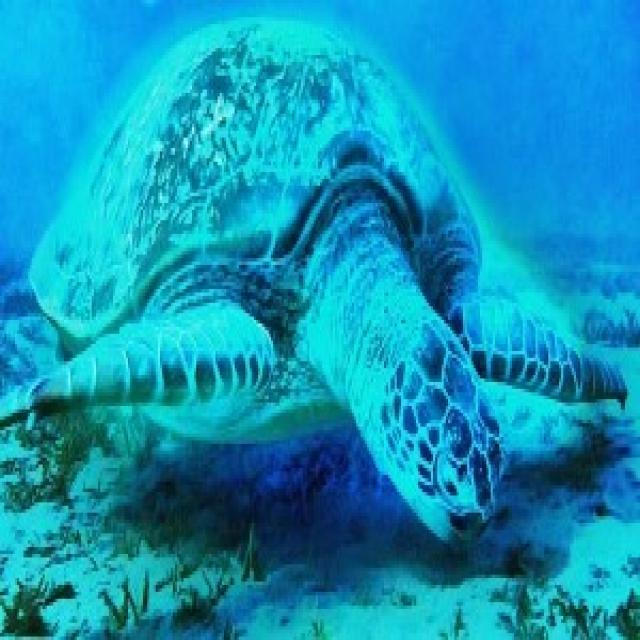Sea turtle: (0, 19, 628, 556)
